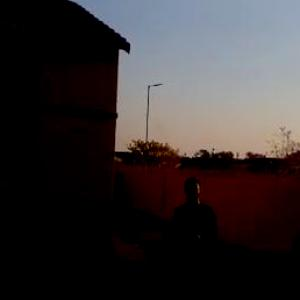follow: (153, 165, 224, 299)
